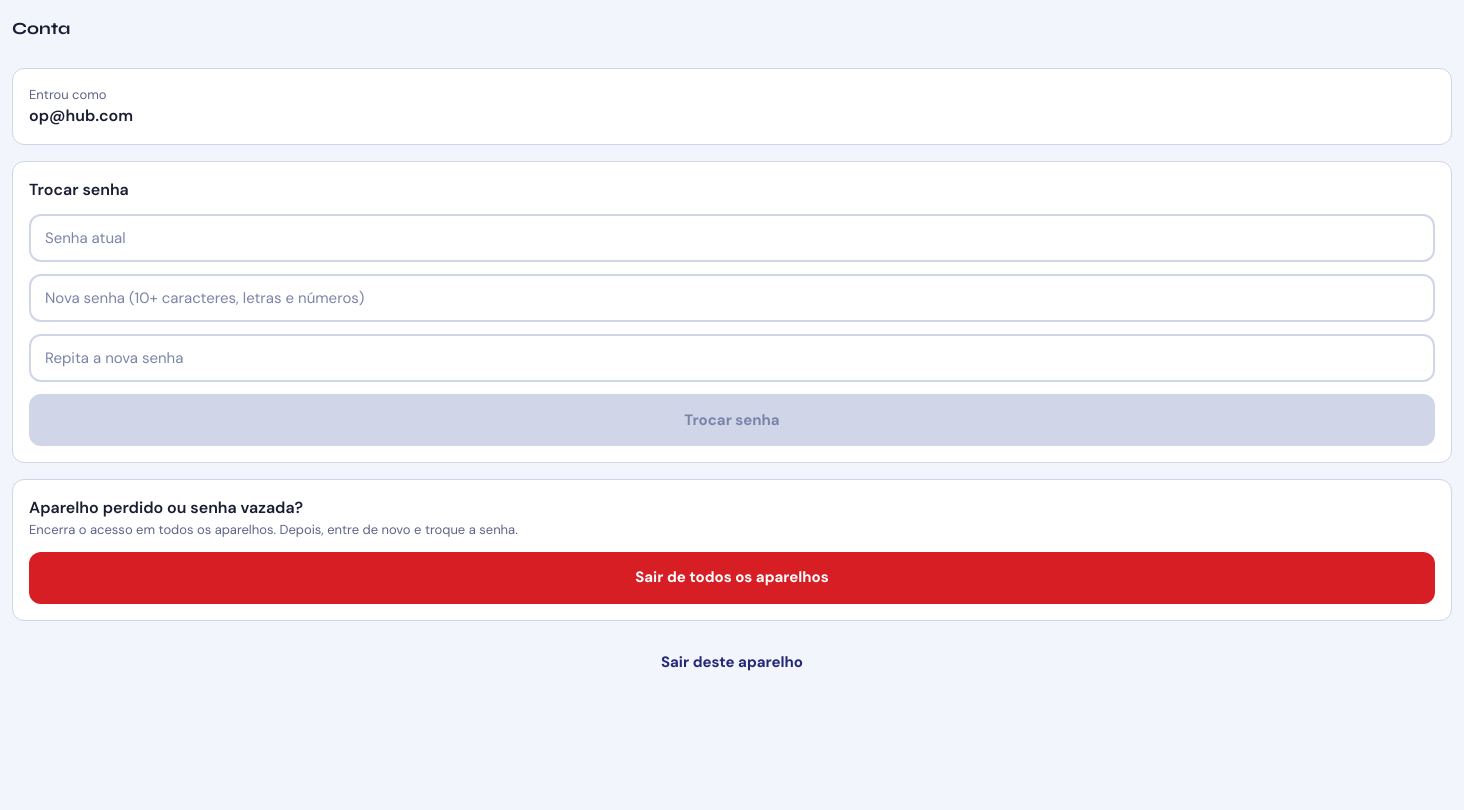
Scenario: AccountPage › não envia quando a confirmação não bate
Type "antiga" into the password field with placeholder "Senha atual" at [732, 238], box [29, 214, 1435, 262]
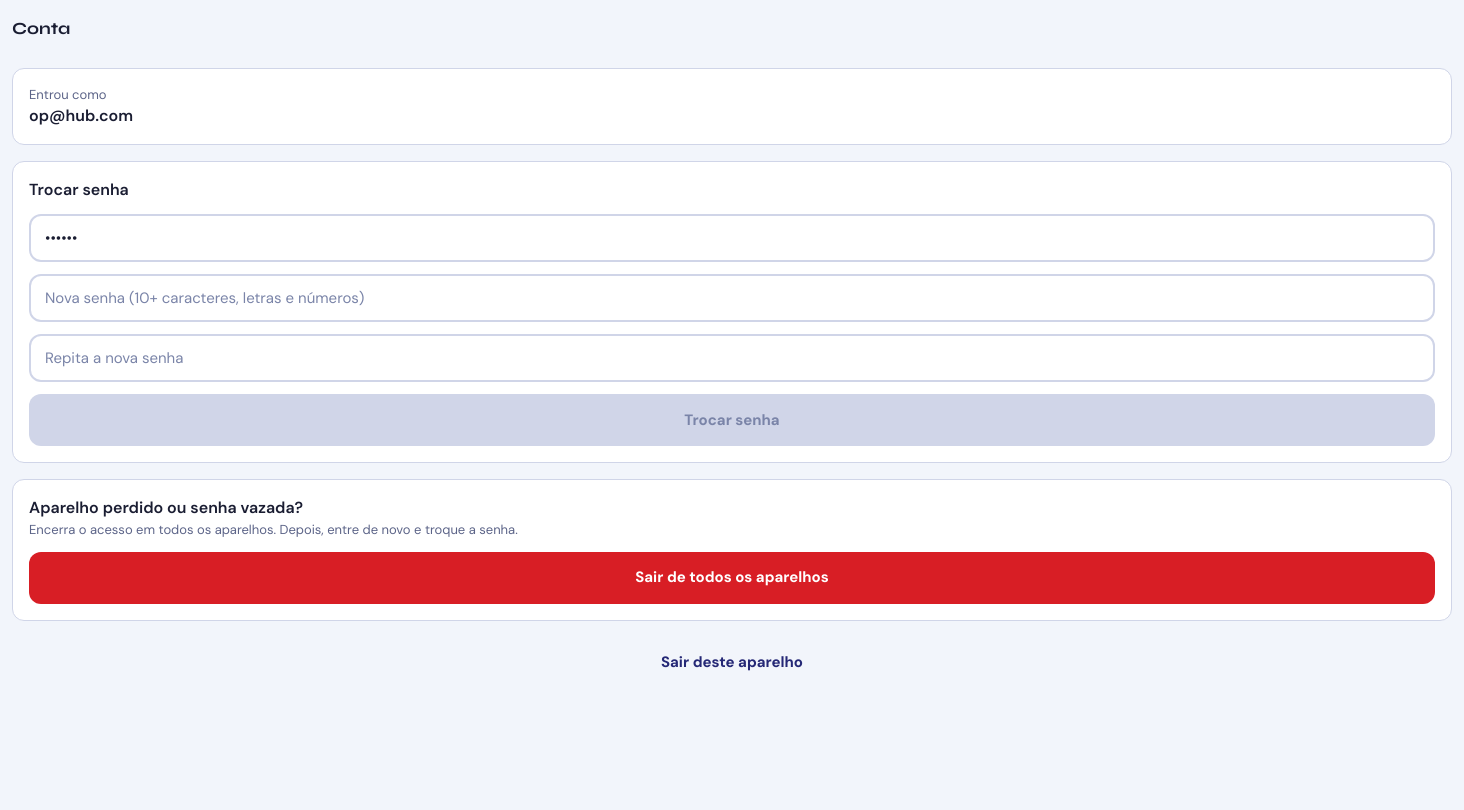
Type "NovaSenha2026" into the password field with placeholder "Nova senha (10+ caracteres, letras e números)" at [732, 298], box [29, 274, 1435, 322]
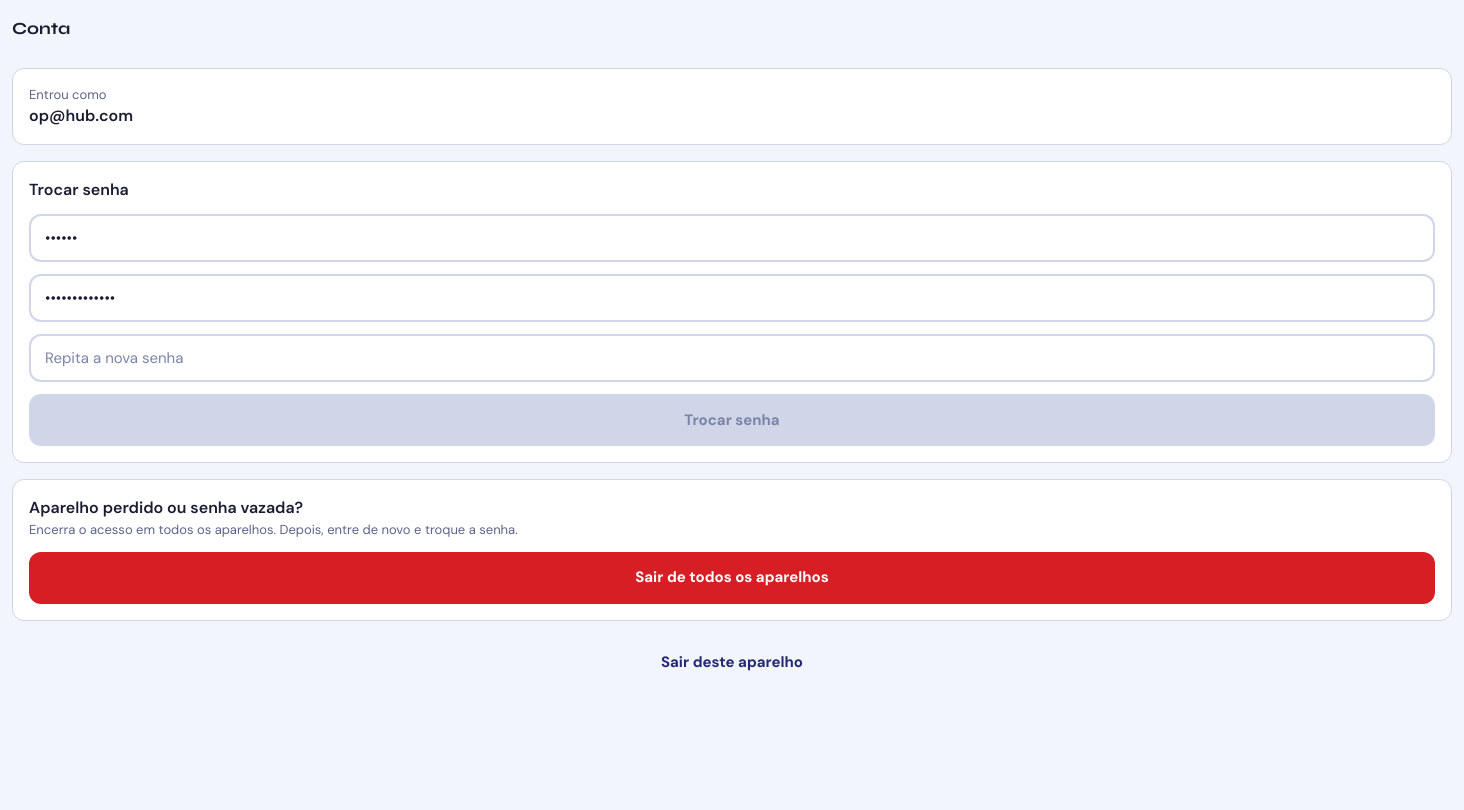
Type "OutraSenha2026" into the password field with placeholder "Repita a nova senha" at [732, 358], box [29, 334, 1435, 382]
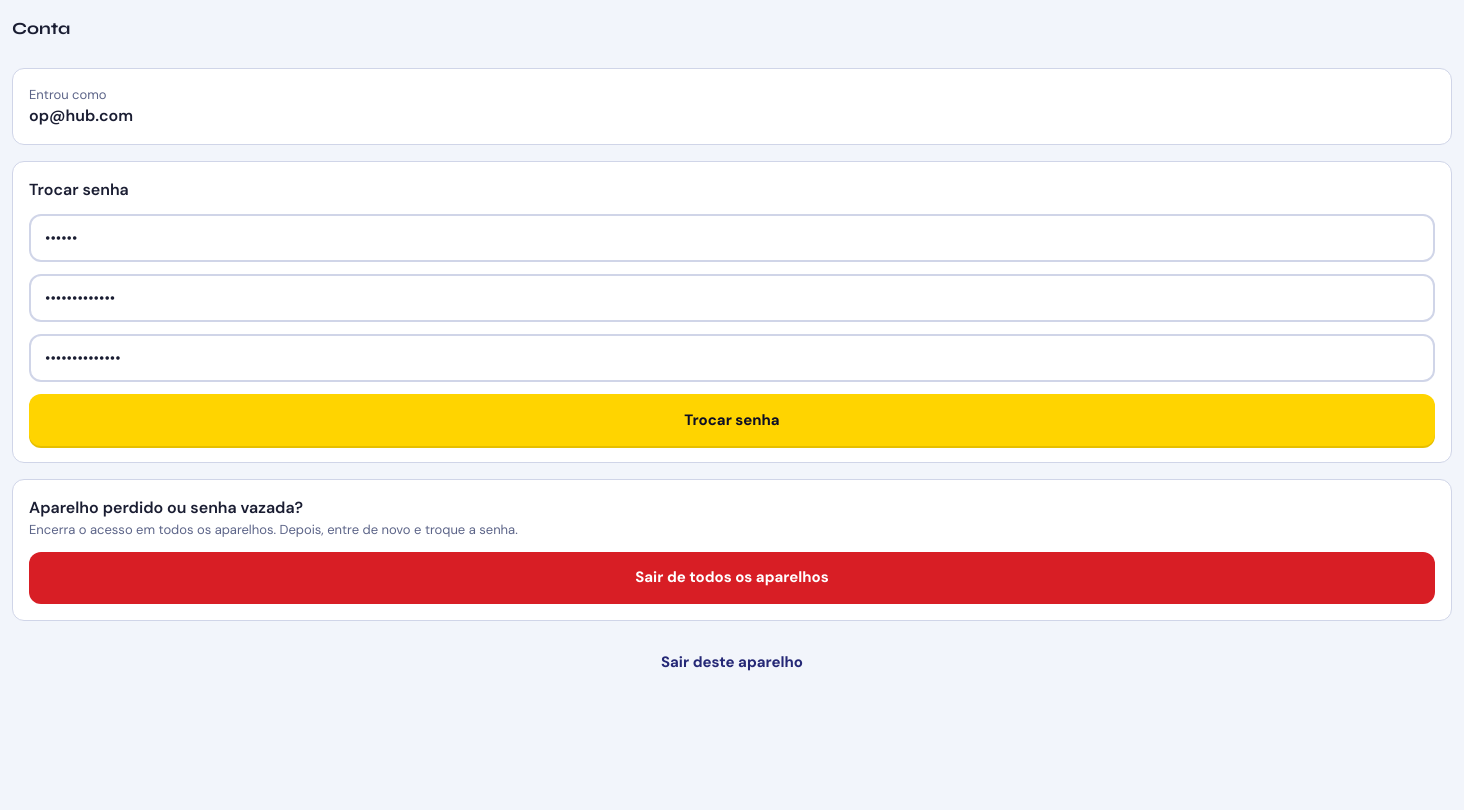
Click the button "Trocar senha" at [732, 420], box [29, 394, 1435, 446]
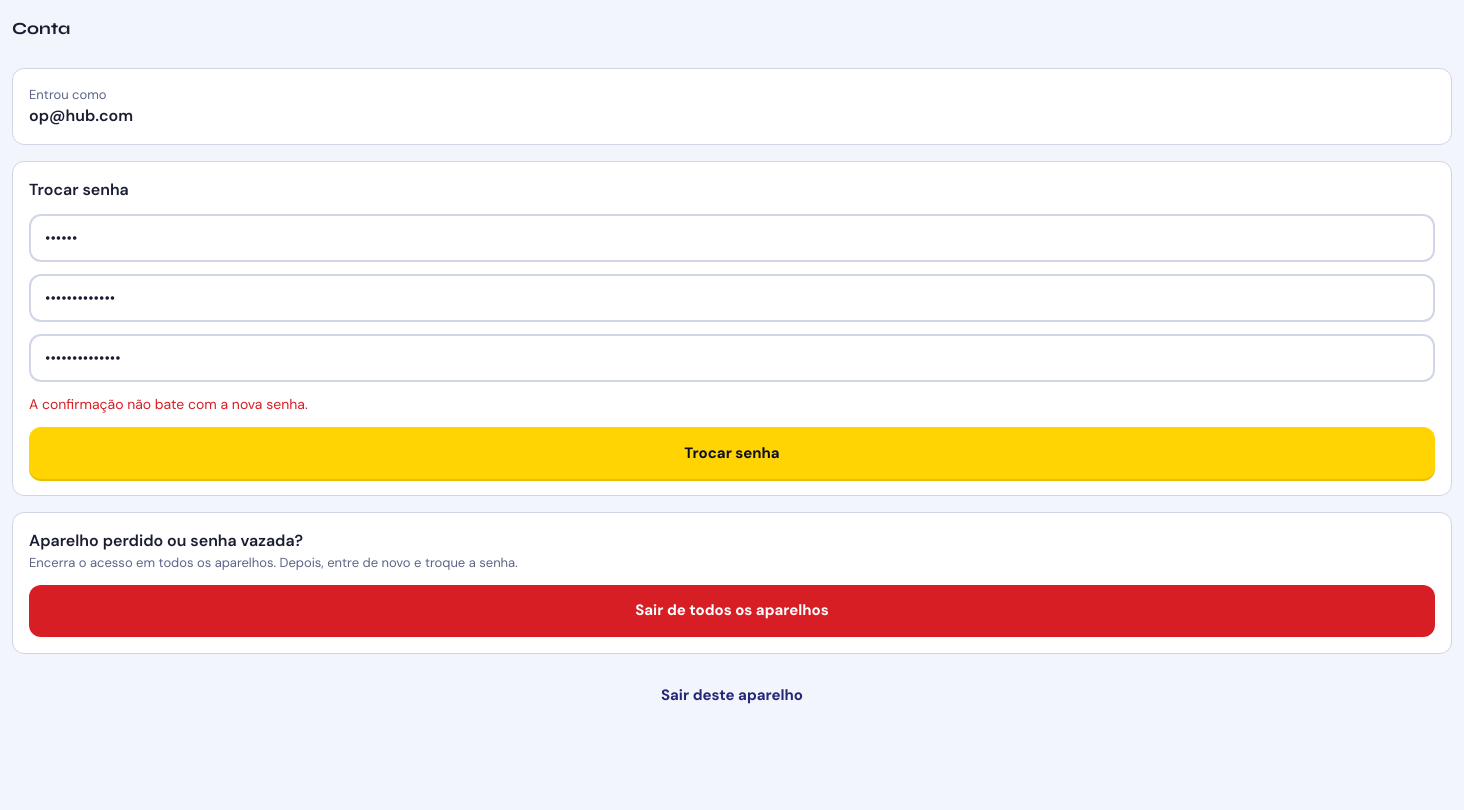
Check: the message shows "não bate", box [29, 395, 308, 413]
